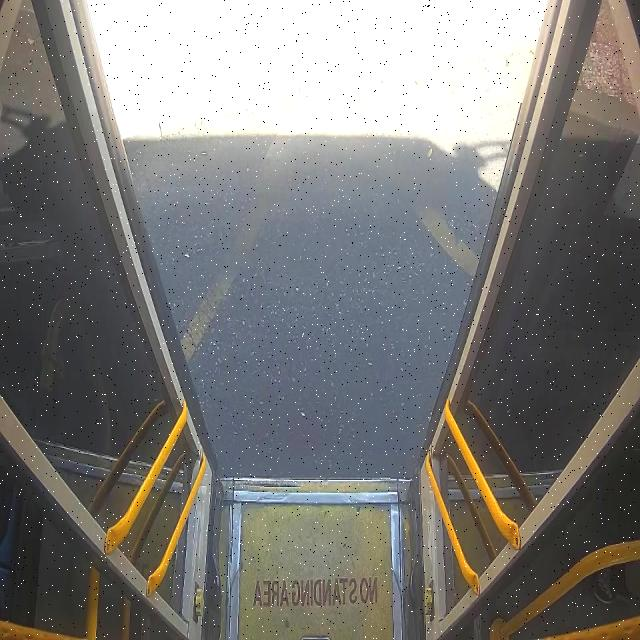open: (64, 2, 566, 488)
